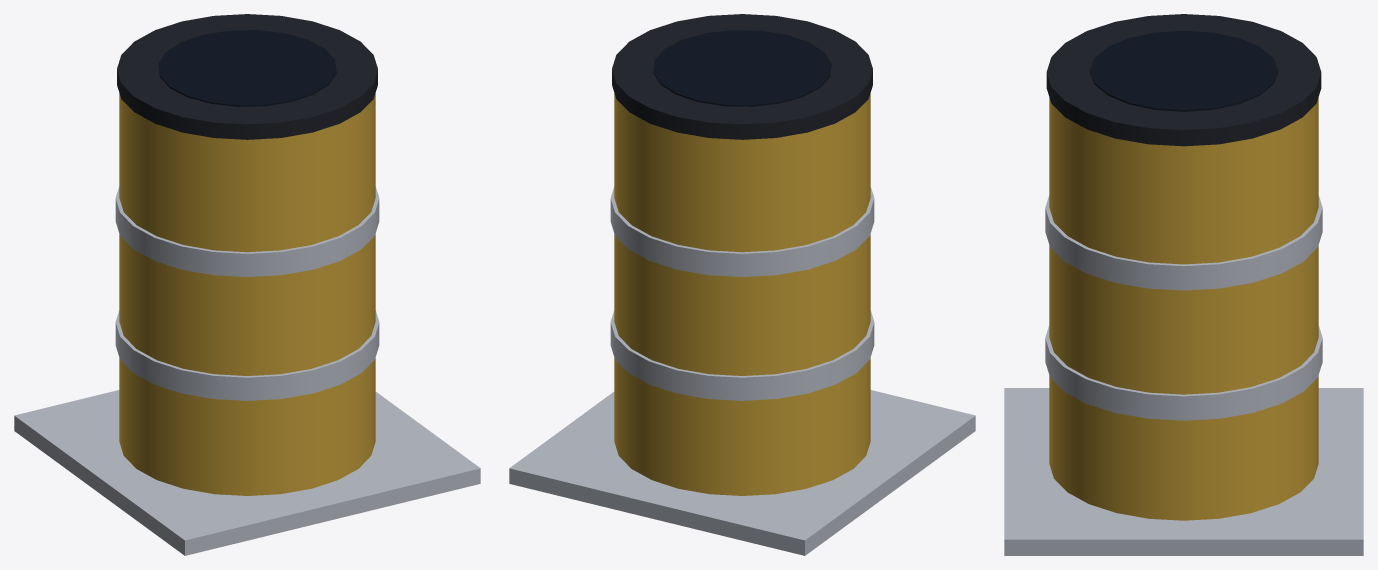
The model's file is rad.glb.
3 renders of one model, left to right at view 1: azimuth 30°, elevation 25°; view 2: azimuth 150°, elevation 25°; view 3: azimuth 270°, elevation 25°, orthographic. The views are drawn at different scales.
Visible parts, largest first — view 1: rad_telescope, rad_deck, rad_rim, rad_aperture, rad_ring1, rad_ring2; view 2: rad_telescope, rad_deck, rad_rim, rad_aperture, rad_ring1, rad_ring2; view 3: rad_telescope, rad_deck, rad_rim, rad_aperture, rad_ring1, rad_ring2.
Part boxes in pixels (x1=…): rad_telescope: x1=119, y1=93, x2=375, y2=495; rad_deck: x1=14, y1=390, x2=480, y2=555; rad_rim: x1=117, y1=14, x2=377, y2=139; rad_aperture: x1=158, y1=30, x2=336, y2=106; rad_ring1: x1=115, y1=310, x2=379, y2=400; rad_ring2: x1=115, y1=187, x2=379, y2=276; rad_telescope: x1=614, y1=93, x2=870, y2=495; rad_deck: x1=509, y1=390, x2=975, y2=555; rad_rim: x1=612, y1=14, x2=872, y2=139; rad_aperture: x1=653, y1=30, x2=831, y2=106; rad_ring1: x1=610, y1=310, x2=874, y2=400; rad_ring2: x1=610, y1=187, x2=874, y2=276; rad_telescope: x1=1049, y1=97, x2=1318, y2=520; rad_deck: x1=1004, y1=388, x2=1363, y2=555; rad_rim: x1=1046, y1=14, x2=1321, y2=146; rad_aperture: x1=1089, y1=30, x2=1278, y2=111; rad_ring1: x1=1045, y1=325, x2=1322, y2=420; rad_ring2: x1=1045, y1=195, x2=1322, y2=290.
Bounding box in the file's own units: 0.2 × 0.2518 × 0.2.
